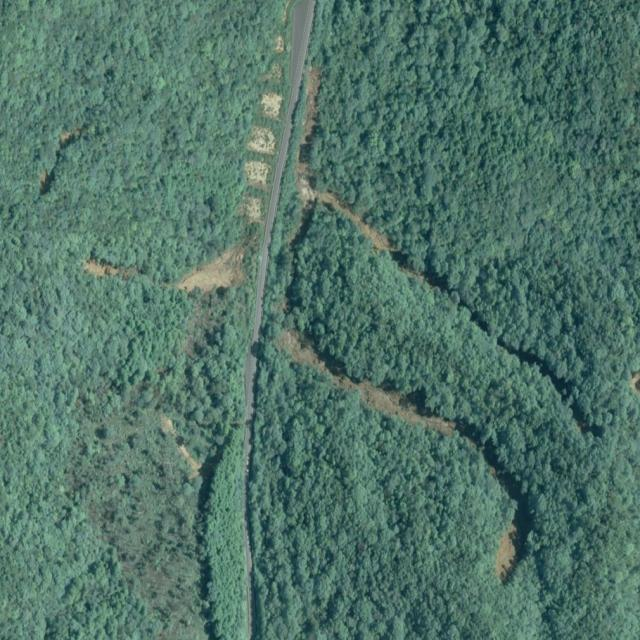landslide: (279, 317, 479, 447), (289, 202, 442, 300), (296, 160, 391, 249), (176, 233, 256, 294), (497, 500, 529, 582), (302, 67, 321, 145), (84, 258, 132, 277), (239, 193, 265, 227), (246, 155, 268, 191), (181, 446, 200, 479), (162, 417, 177, 437)
